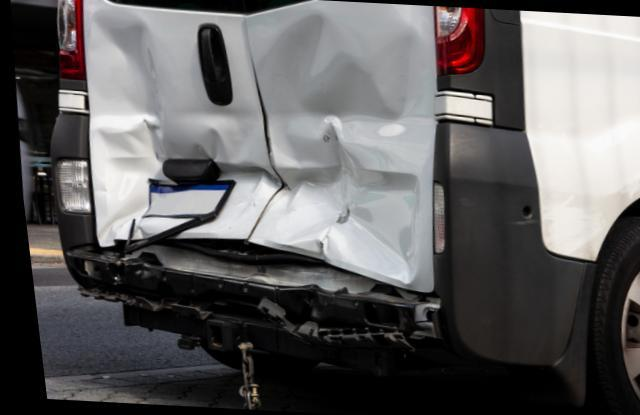dent: (252, 0, 438, 293), (82, 11, 255, 249)
dislocated part: (242, 0, 444, 311), (75, 7, 287, 271)
no part: (65, 245, 437, 358)
